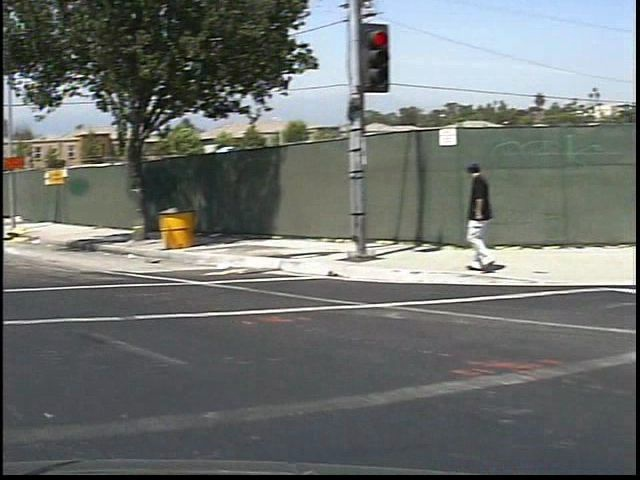person: (444, 154, 497, 287)
